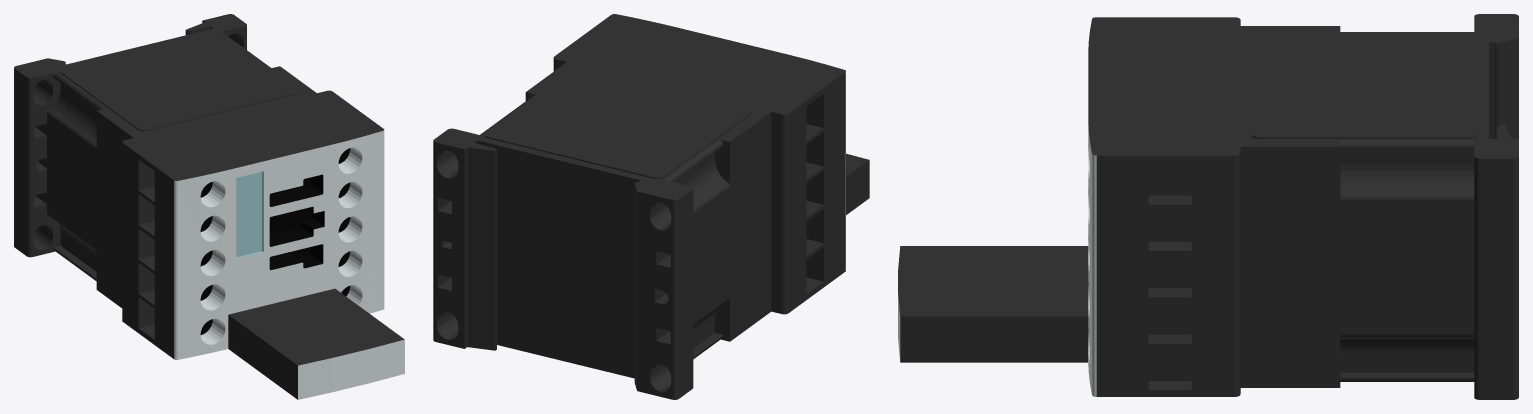
Rendered from relay.dae.
The picture shows the model from 3 angles, left to right: view 1: azimuth 30°, elevation 25°; view 2: azimuth 150°, elevation 25°; view 3: azimuth 270°, elevation 25°; orthographic projection. The views are drawn at different scales.
Visible parts, largest first — view 1: node; view 2: node; view 3: node.
Part boxes in pixels (<box>): node: <box>14,14,404,399</box>; node: <box>433,14,869,399</box>; node: <box>898,14,1518,399</box>.
Size of the model in its own units: 0.0575 by 0.0451 by 0.1044.
1 material, 1 textured.
